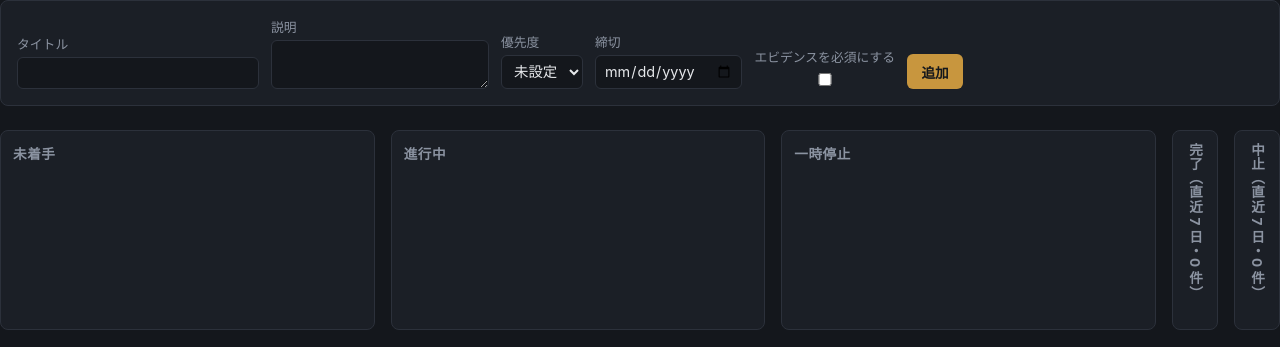
Test case: TaskBoard › 完了/中止 列の直近ウィンドウ (#428) › does not show a 完了 task completed well before the window (AC-2)
Click the button "完了（直近 7 日・0 件）" at (1195,221), box [1185, 143, 1205, 300]
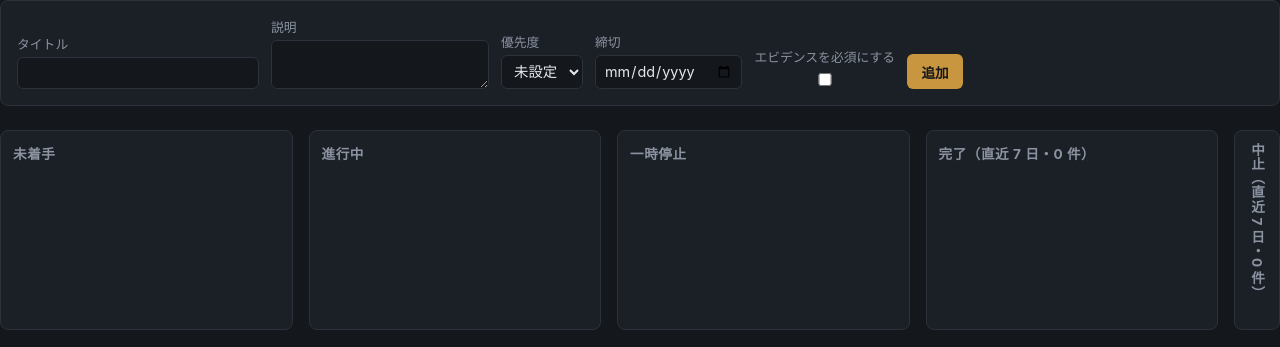
Expected: the button "完了（直近 7 日・0 件）" is expanded, [938, 143, 1205, 163]
